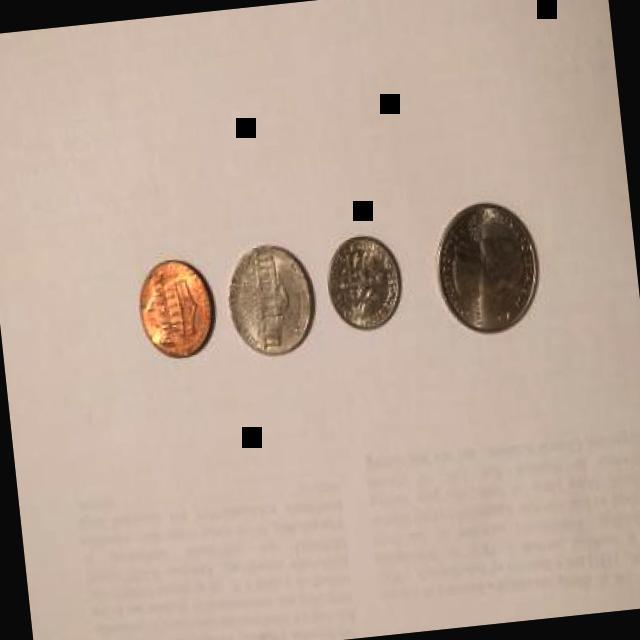Dime: (321, 226, 406, 334)
Nickel: (220, 236, 320, 364)
Penny: (133, 251, 220, 362)
Quarter: (428, 198, 546, 342)
